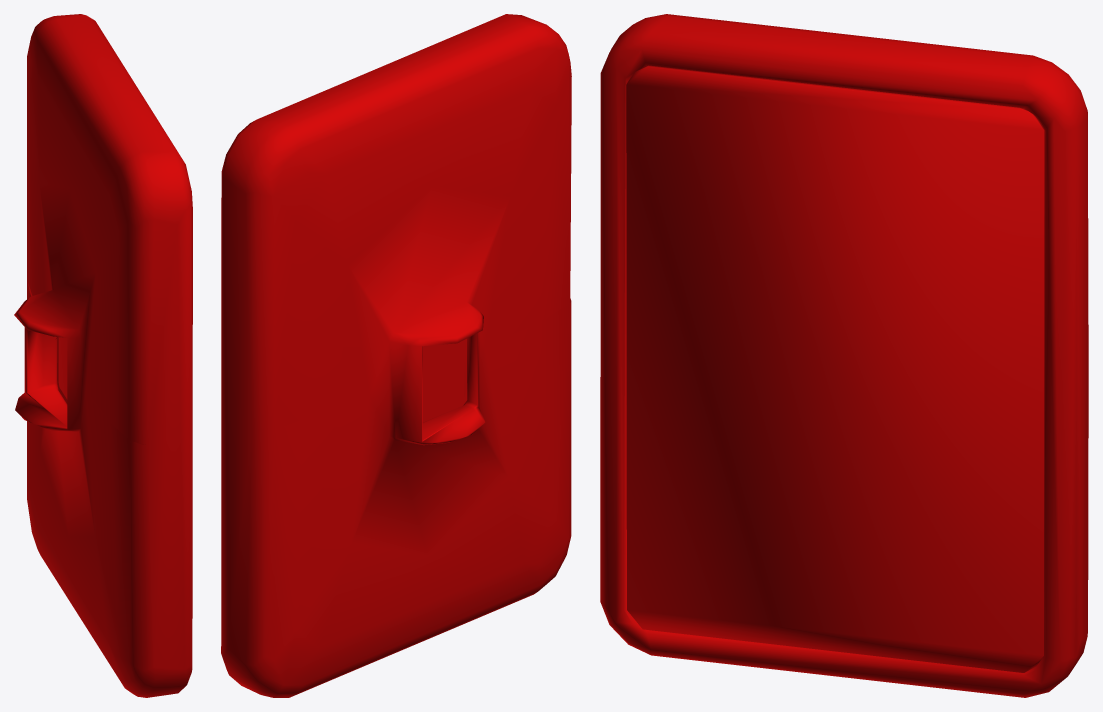
3 renders of one model, left to right at view 1: azimuth 30°, elevation 25°; view 2: azimuth 150°, elevation 25°; view 3: azimuth 270°, elevation 25°, orthographic. The views are drawn at different scales.
Parts seen in each view (by area): view 1: H1; view 2: H1; view 3: H1.
Boxes of the visible parts, x1=… form: H1: x1=14, y1=14, x2=192, y2=697; H1: x1=221, y1=14, x2=571, y2=697; H1: x1=600, y1=14, x2=1088, y2=697.
Size of the model in its own units: 0.0796 by 0.1889 by 0.2674.
